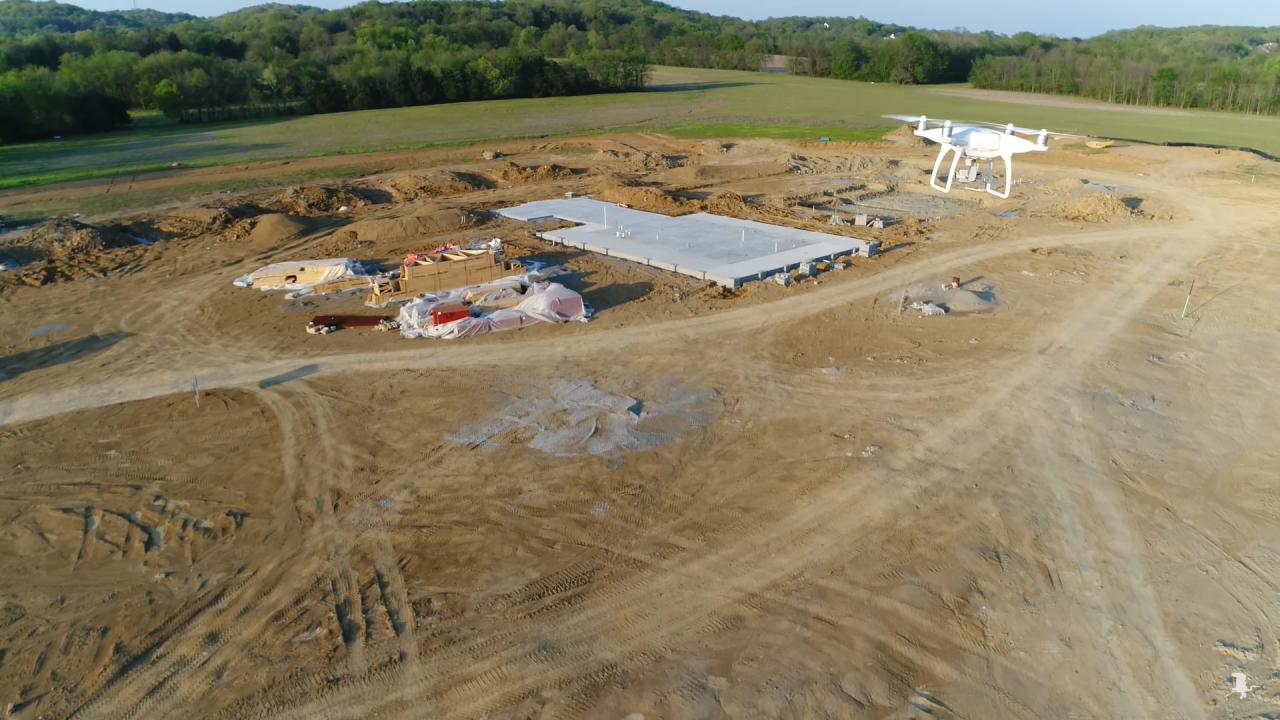Drone: (869, 104, 1088, 208)
